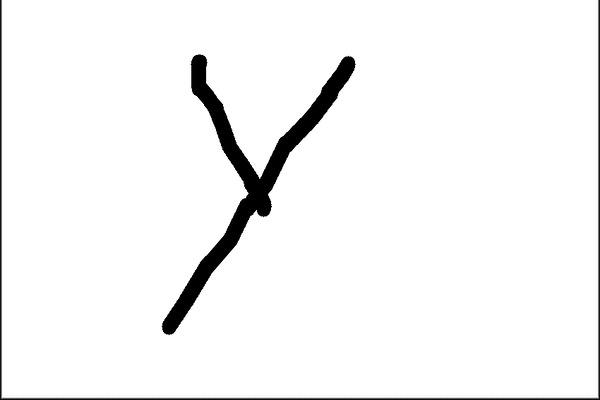Y: (135, 36, 365, 348)
